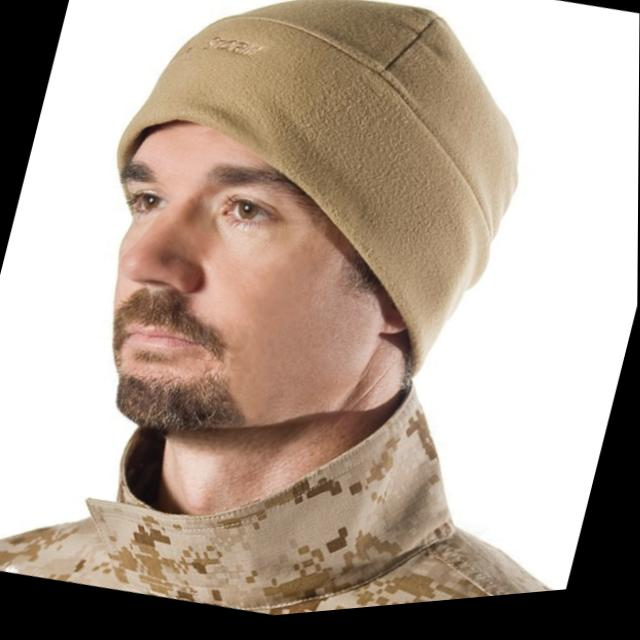illegal_helmet: (35, 0, 574, 528)
